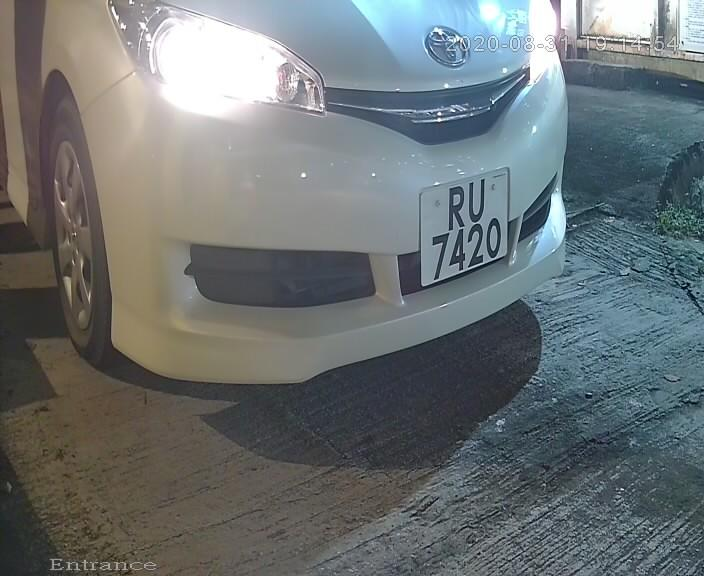License Plate: (409, 155, 519, 301)
